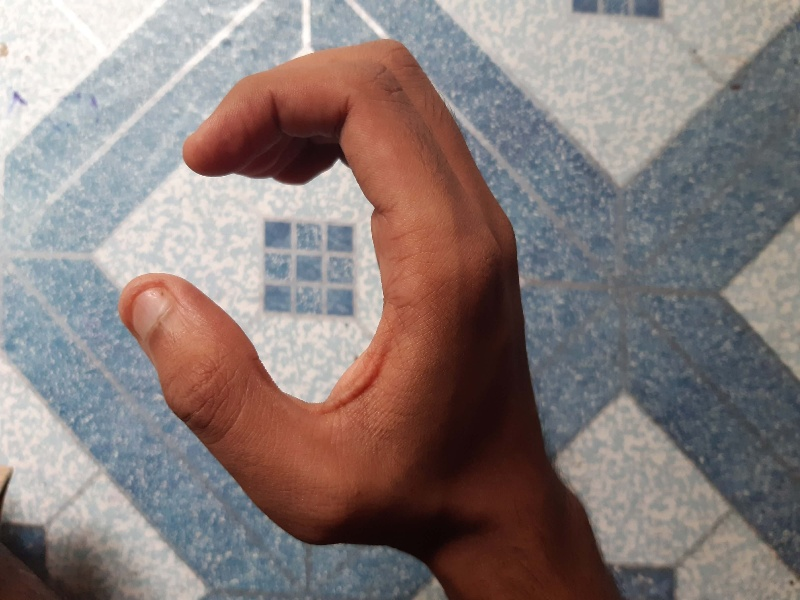one: (117, 33, 555, 575)
